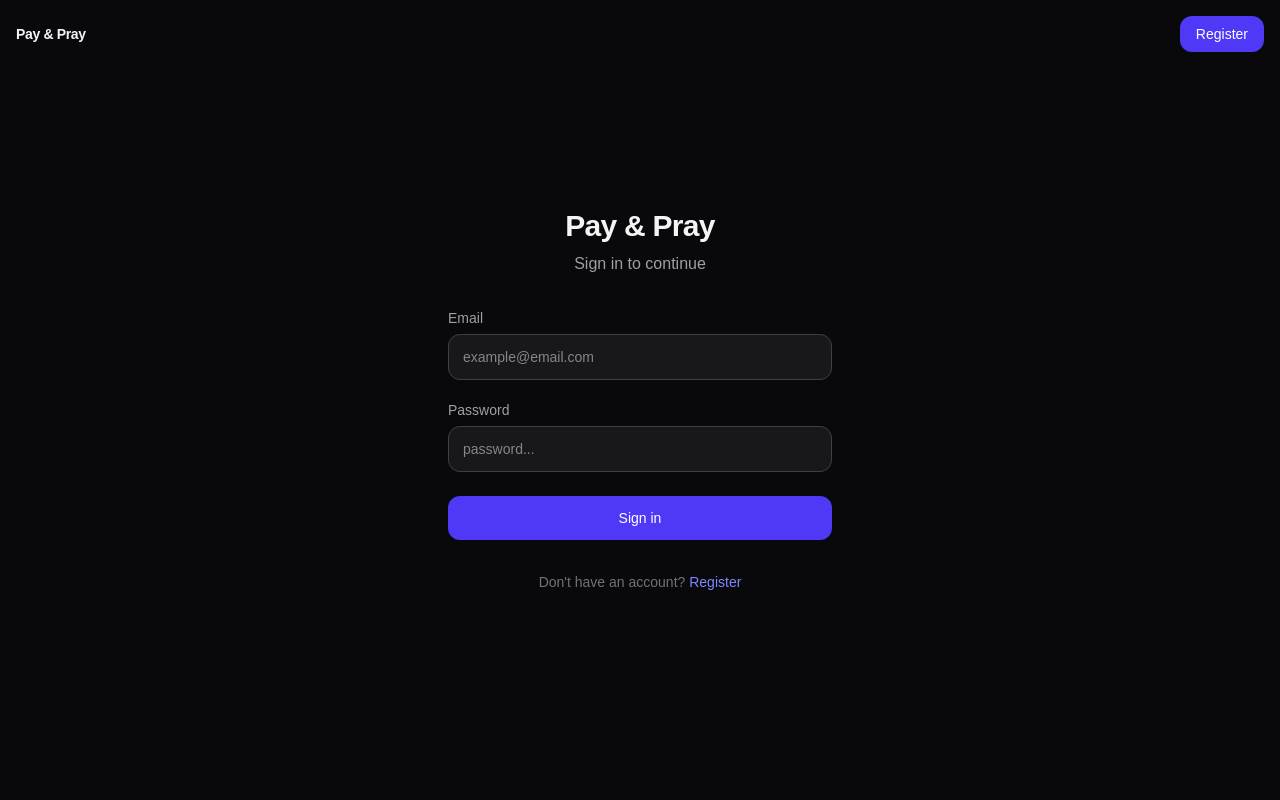
Test: Portfolio view › permite comprar AAPL y ver la posición en Mi Portfolio
Step 1. Type "portfolio@example.com" into the field with id "email" → (640, 357), box x1=448 y1=334 x2=832 y2=380
Step 2. Type "password" into the password field labelled "Password" → (640, 449), box x1=448 y1=426 x2=832 y2=472
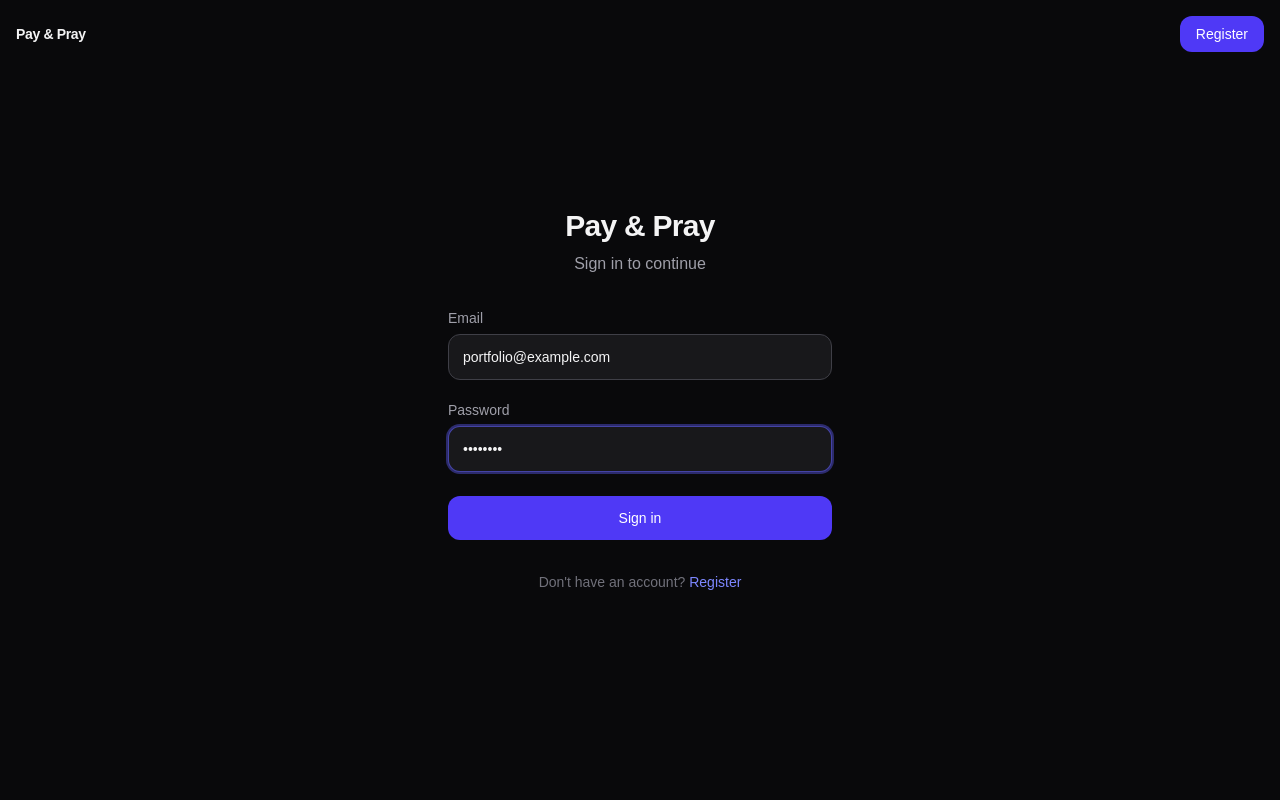
Step 3. Click the button "Sign in" → (640, 518), box x1=448 y1=496 x2=832 y2=540
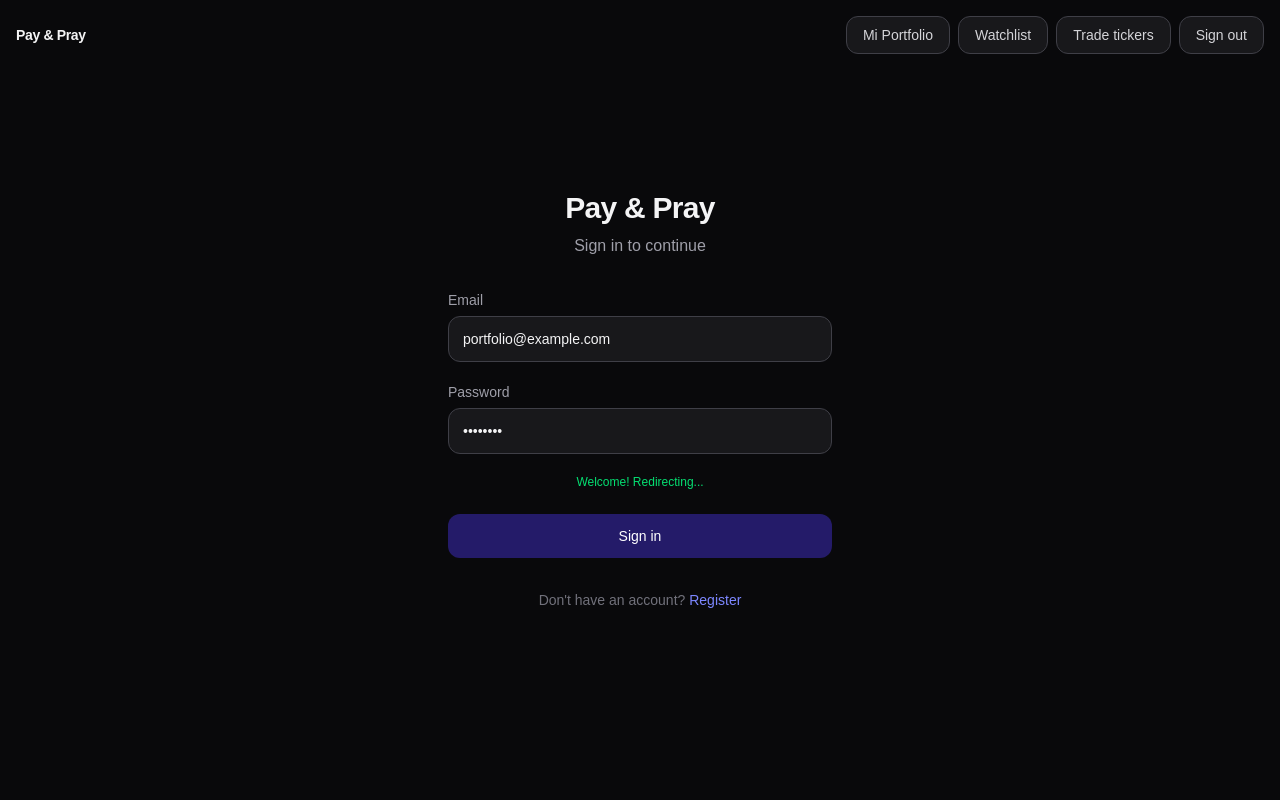
Step 4. Open "/portfolio/buy?ticker=AAPL"
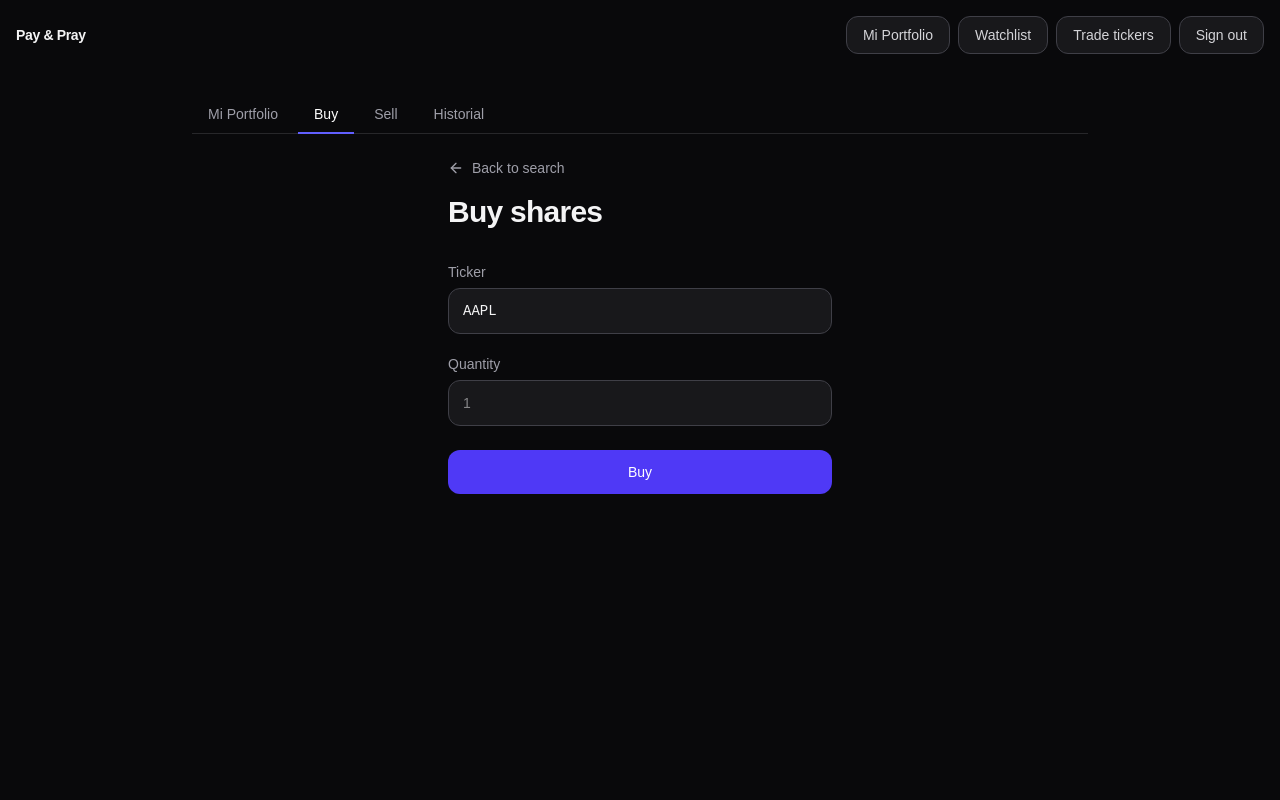
expect the field with id "ticker" holds "AAPL": met, box x1=448 y1=288 x2=832 y2=334
Step 5. Type "10" into the number field labelled "Quantity" → (640, 403), box x1=448 y1=380 x2=832 y2=426
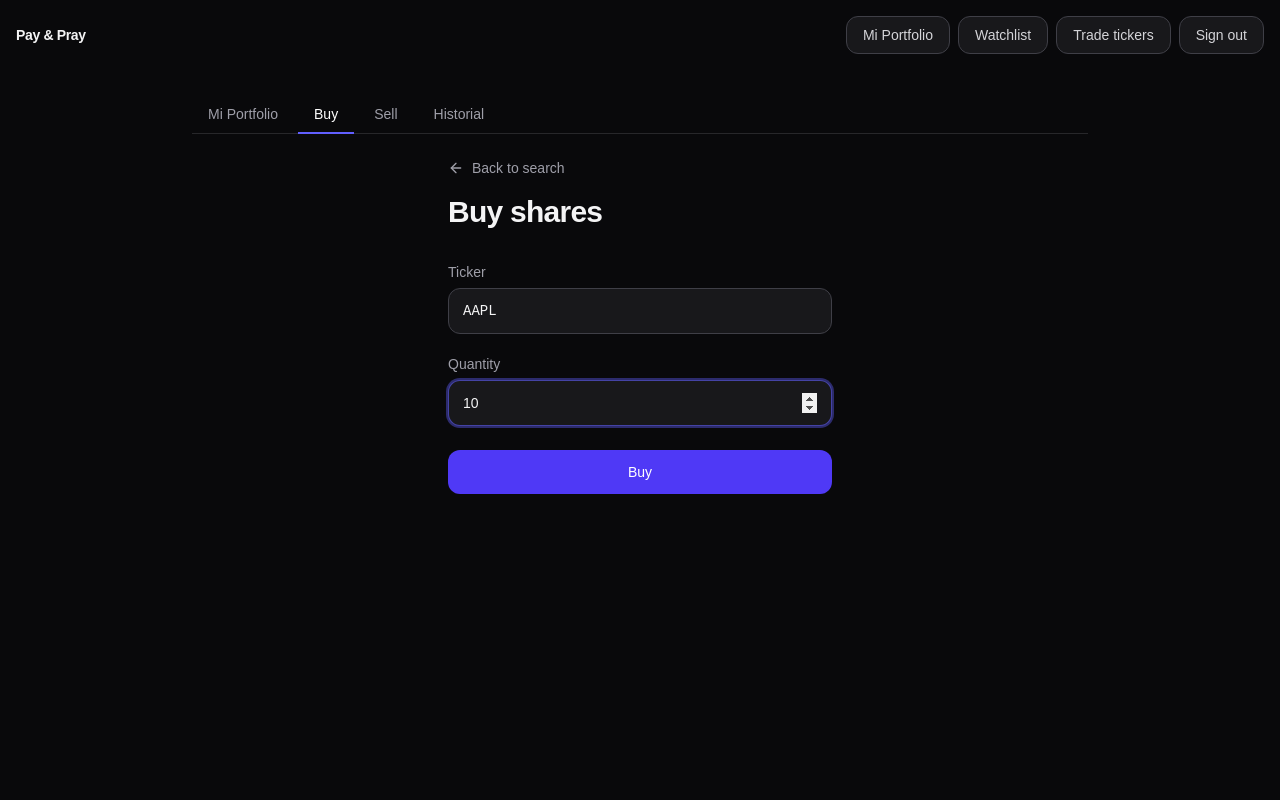
Step 6. Click the button "Buy" → (640, 472), box x1=448 y1=450 x2=832 y2=494
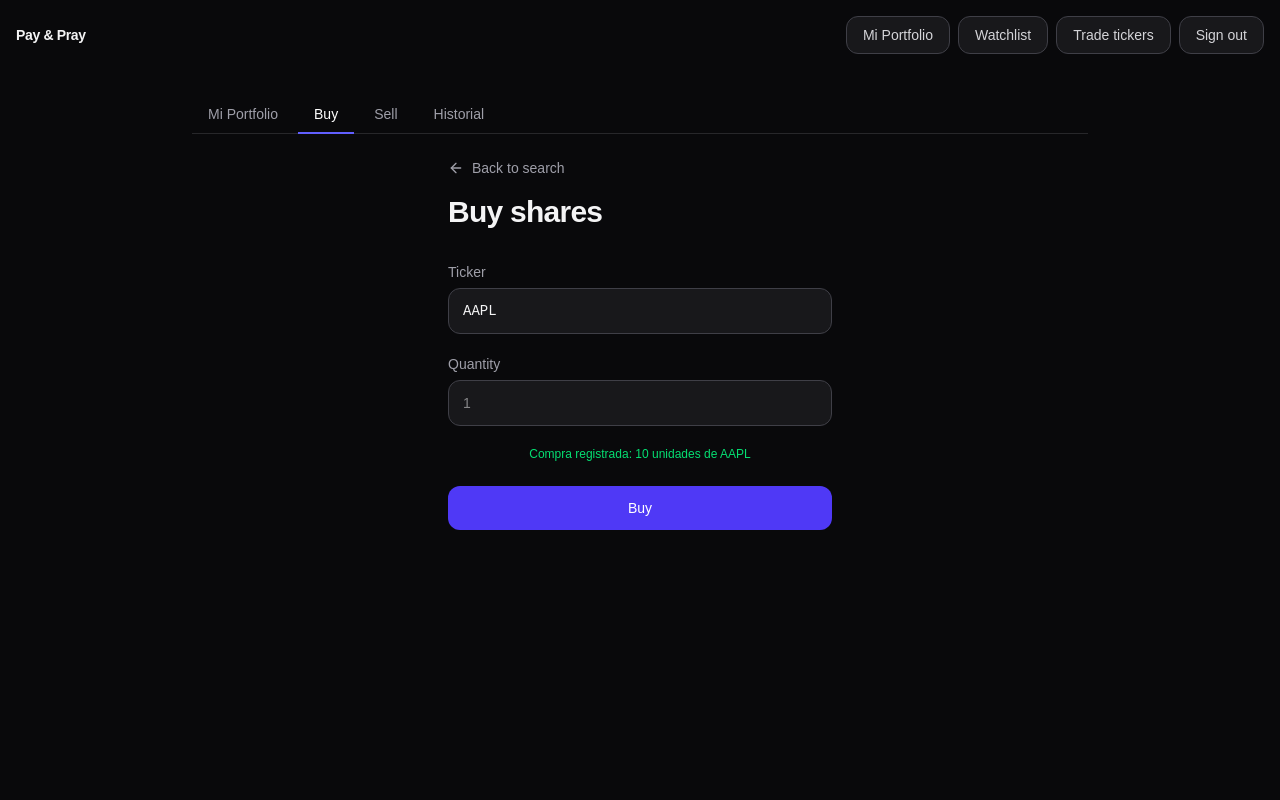
Step 7. Click the link "Mi Portfolio" next to "Watchlist" → (898, 35), box x1=846 y1=16 x2=950 y2=54
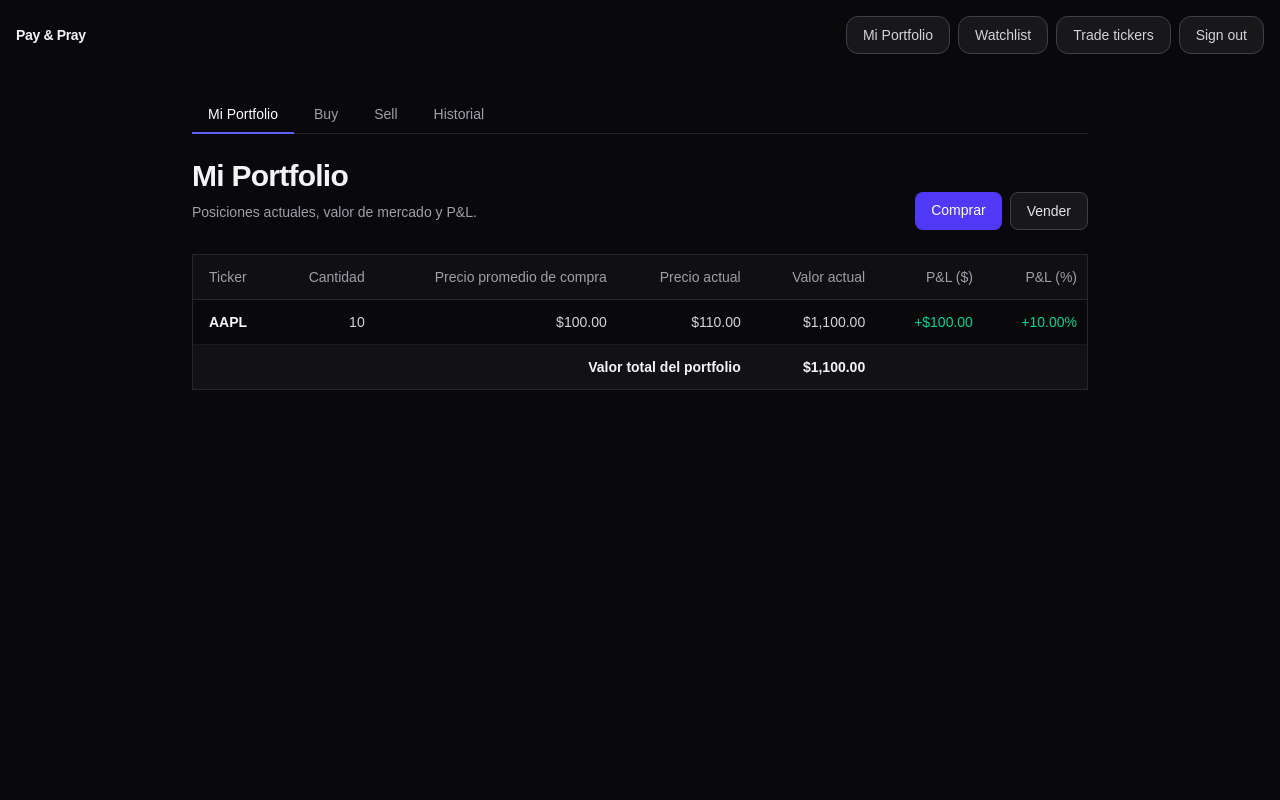
expect the text "AAPL" is shown: met, box x1=193 y1=300 x2=276 y2=344
expect the text "10" is shown: met, box x1=276 y1=300 x2=381 y2=344
expect the text "+$100.00" is shown: met, box x1=881 y1=300 x2=989 y2=344
